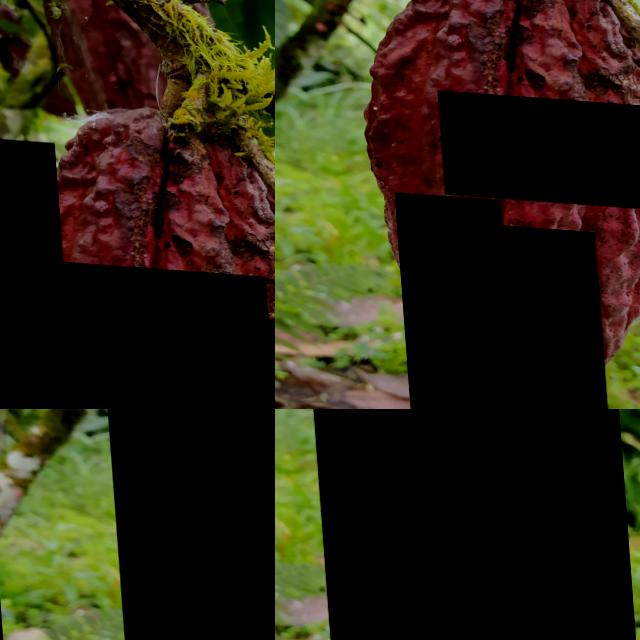Fitoftora: (433, 86, 640, 205)
Monilia: (452, 218, 601, 409)
Sana: (298, 409, 631, 640), (101, 409, 275, 640), (55, 258, 275, 409), (319, 90, 438, 339), (388, 189, 508, 409), (0, 127, 71, 409), (275, 0, 323, 281)
